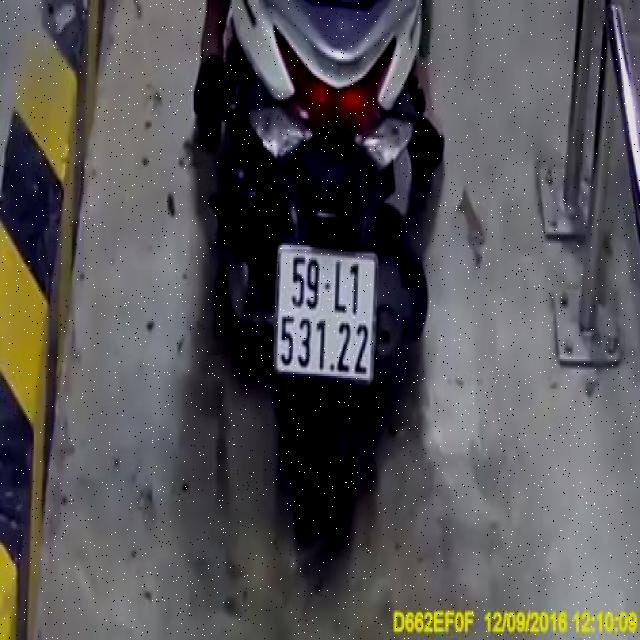1: (348, 264, 361, 316), (316, 314, 325, 372)
2: (335, 320, 351, 373), (355, 322, 369, 373)
3: (298, 317, 315, 371)
5: (289, 253, 307, 311), (282, 311, 294, 368)
9: (306, 259, 320, 311)
L: (333, 260, 349, 315)
